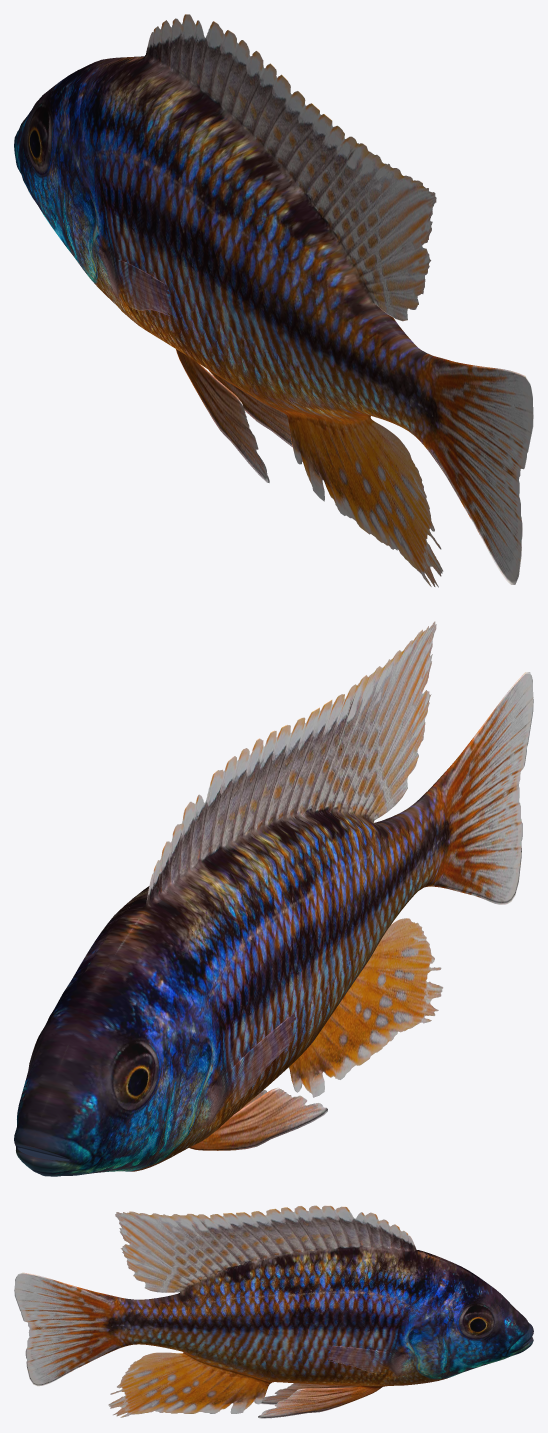
Rendered from Protomelas taeniolatus.FBX.
The picture shows the model from 3 angles, top to bottom: view 1: azimuth 30°, elevation 25°; view 2: azimuth 150°, elevation 25°; view 3: azimuth 270°, elevation 25°; orthographic projection. The views are drawn at different scales.
Parts seen in each view (by area): view 1: Protomelas Taeniolatus; view 2: Protomelas Taeniolatus; view 3: Protomelas Taeniolatus.
Part boxes in pixels (x1,y1,x2,y2): Protomelas Taeniolatus: (14, 14, 533, 587); Protomelas Taeniolatus: (14, 621, 533, 1176); Protomelas Taeniolatus: (14, 1205, 533, 1418).
Size of the model in its own units: 1.54 by 4.53 by 10.05.
1 material, 1 textured.
